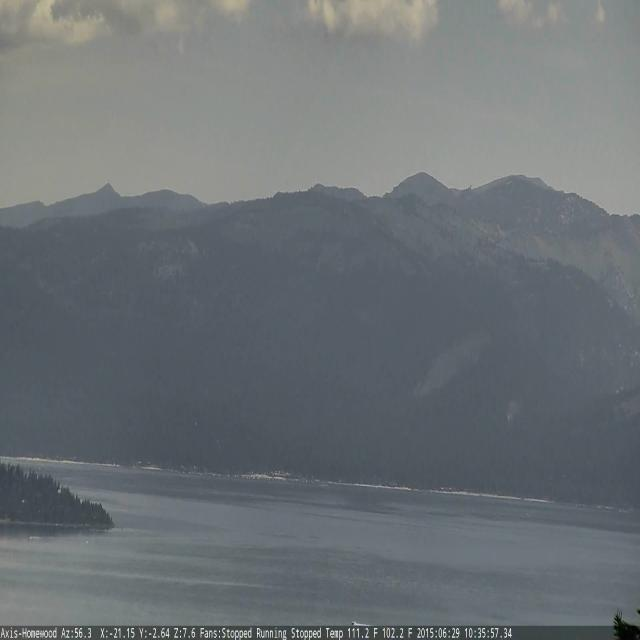smoke: (508, 398, 519, 427)
